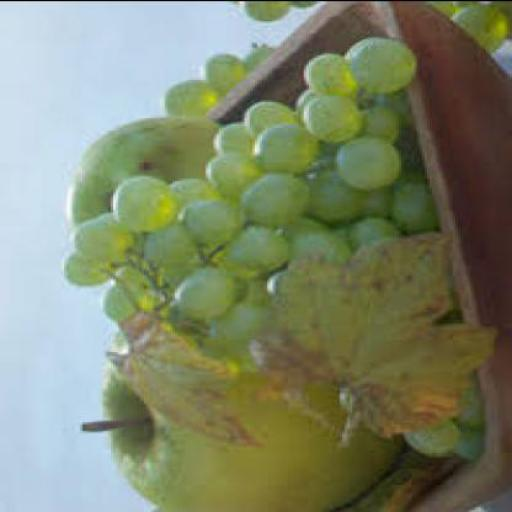biodegradable: (106, 339, 399, 510), (250, 228, 488, 435), (105, 308, 265, 444), (64, 118, 231, 236), (340, 32, 414, 91), (249, 121, 329, 171), (239, 172, 311, 226), (334, 136, 404, 186), (309, 165, 368, 221), (444, 2, 511, 50), (113, 176, 170, 228), (222, 222, 286, 268), (386, 171, 435, 230), (301, 90, 355, 140), (178, 270, 237, 312), (244, 101, 308, 139), (180, 200, 244, 238), (74, 220, 134, 260), (209, 152, 265, 194), (142, 232, 190, 280), (208, 304, 262, 346), (162, 76, 218, 114), (303, 51, 355, 91), (167, 174, 219, 212), (214, 117, 265, 155), (402, 422, 460, 454), (358, 104, 404, 142), (103, 284, 152, 316), (200, 52, 239, 90), (347, 213, 396, 242), (62, 254, 108, 283), (448, 385, 479, 427), (232, 276, 268, 311), (237, 42, 268, 71), (236, 1, 286, 16), (450, 429, 479, 453), (288, 0, 314, 2)
